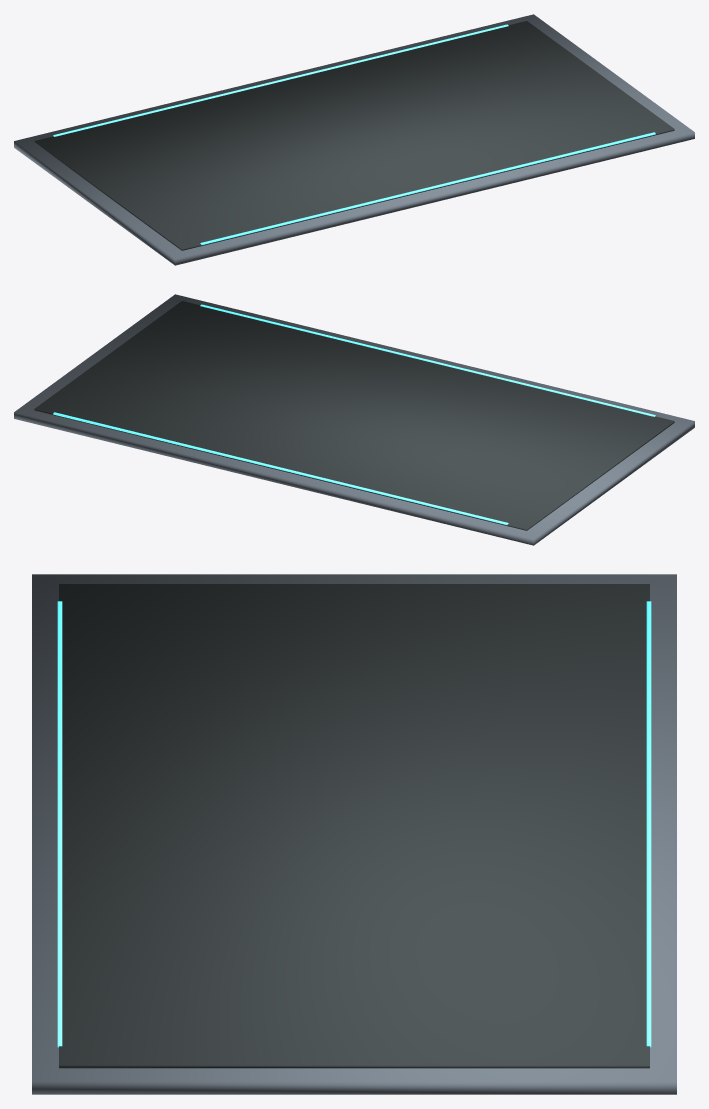
Rendered from 01_L94_AntiStaticWorkSurface.fbx.
3 renders of one model, top to bottom at view 1: azimuth 30°, elevation 25°; view 2: azimuth 150°, elevation 25°; view 3: azimuth 270°, elevation 25°, orthographic. The views are drawn at different scales.
Visible parts, largest first — view 1: L94_AntiStaticWorkSurface; view 2: L94_AntiStaticWorkSurface; view 3: L94_AntiStaticWorkSurface.
Part boxes in pixels (<box>): L94_AntiStaticWorkSurface: <box>14,14,694,265</box>; L94_AntiStaticWorkSurface: <box>14,294,694,545</box>; L94_AntiStaticWorkSurface: <box>32,574,676,1094</box>.
Size of the model in its own units: 5.38 by 0.0905 by 2.89.
